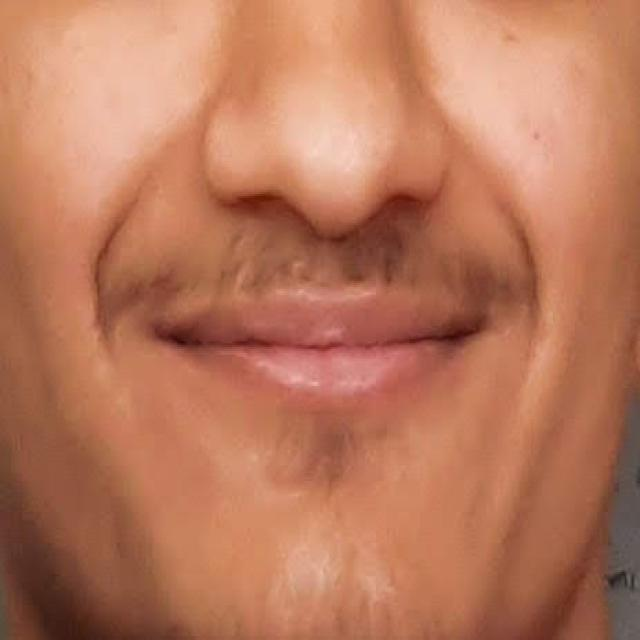normal_tongue: (124, 278, 555, 522)
